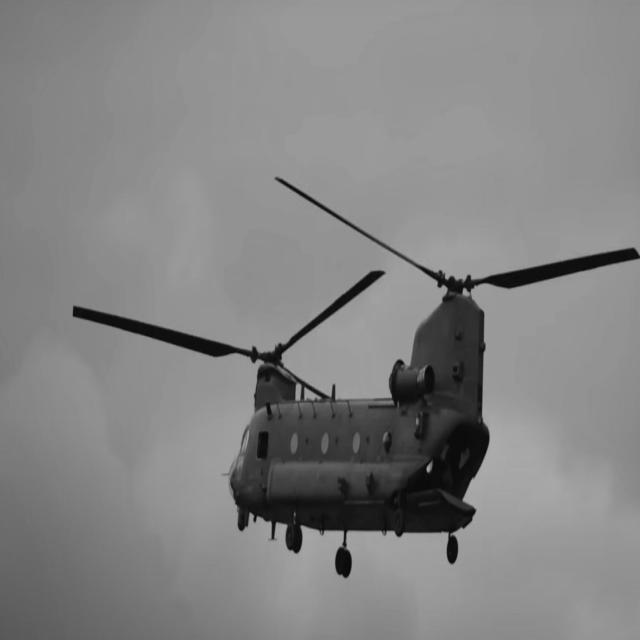Helicopter: (74, 272, 488, 561)
